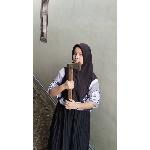Kapak: (62, 59, 84, 105)
